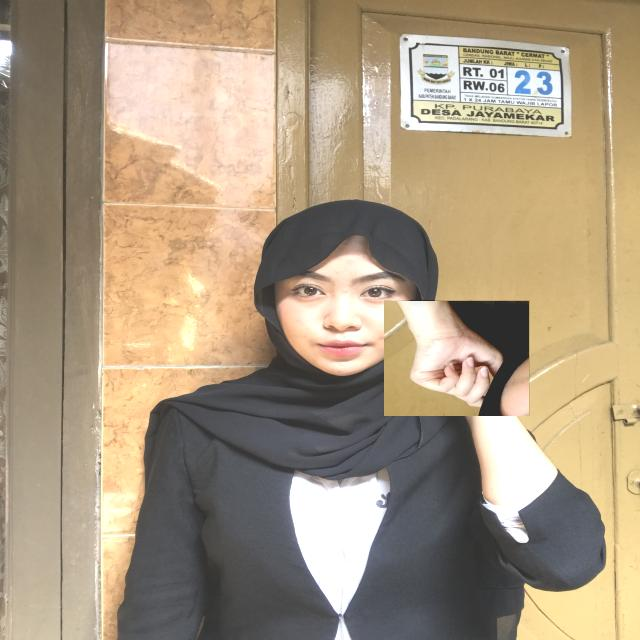ibu: (384, 300, 530, 416)
